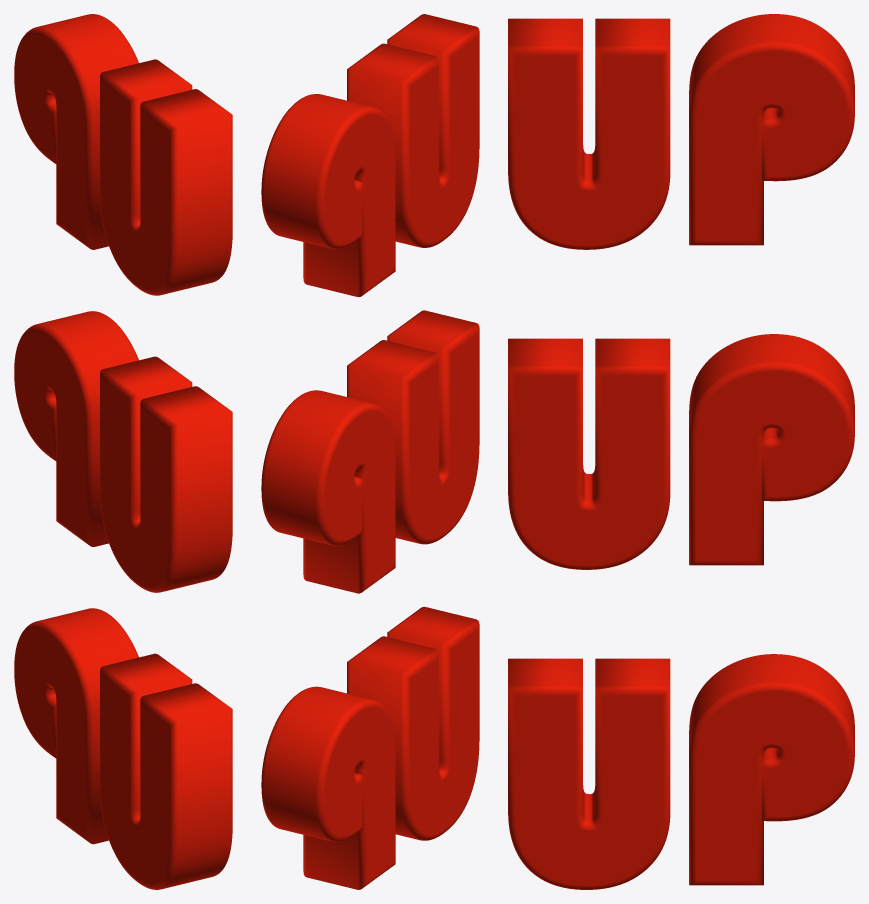
The model's file is Upupup2.fbx.
3 views of the same model, side by side, from view 1: azimuth 30°, elevation 25°; view 2: azimuth 150°, elevation 25°; view 3: azimuth 270°, elevation 25° (orthographic). The views are drawn at different scales.
Visible parts, largest first — view 1: Text; view 2: Text; view 3: Text.
Part boxes in pixels (box(x1,y1,x2,y2)): Text: box(14, 14, 232, 889); Text: box(261, 14, 479, 889); Text: box(508, 14, 854, 889).
Size of the model in its own units: 22 by 265 by 98.22.
